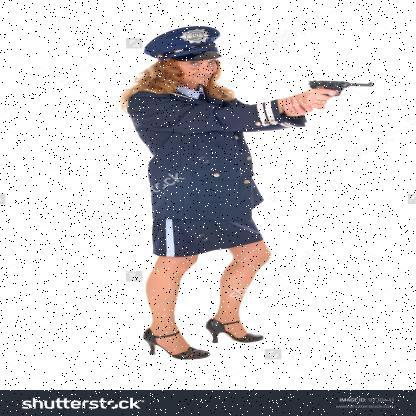pistol: (310, 80, 375, 98)
